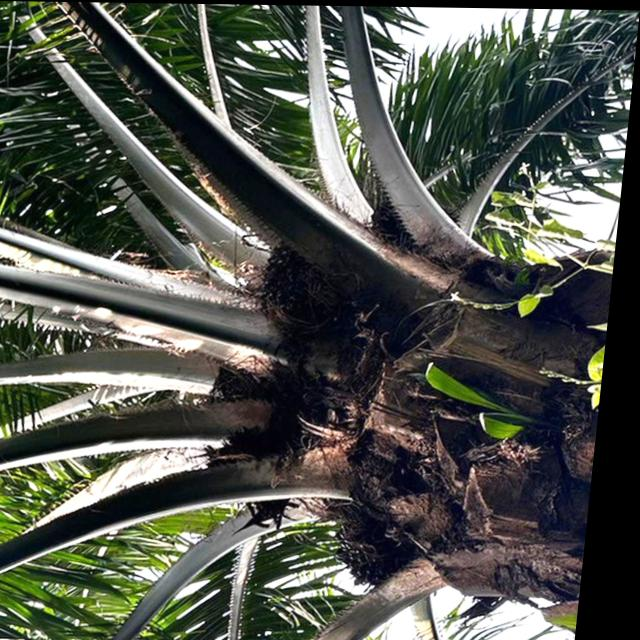unripe: (252, 222, 381, 342), (331, 496, 437, 596)
